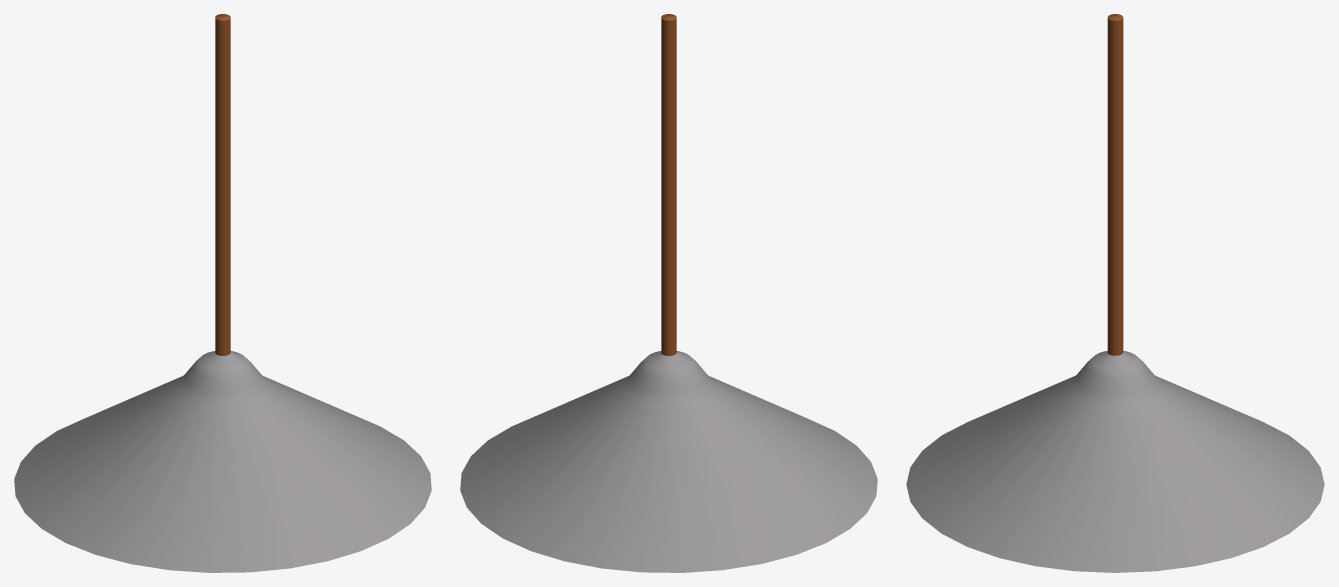
The model's file is Lamp.fbx.
The picture shows the model from 3 angles, left to right: view 1: azimuth 30°, elevation 25°; view 2: azimuth 150°, elevation 25°; view 3: azimuth 270°, elevation 25°; orthographic projection.
Parts seen in each view (by area): view 1: Cylinder, Cylinder.001; view 2: Cylinder, Cylinder.001; view 3: Cylinder, Cylinder.001.
Part boxes in pixels (left/top/right/bottom): Cylinder: left=14, top=351, right=431, bottom=572; Cylinder.001: left=215, top=14, right=230, bottom=355; Cylinder: left=460, top=351, right=877, bottom=572; Cylinder.001: left=661, top=14, right=676, bottom=355; Cylinder: left=906, top=351, right=1324, bottom=572; Cylinder.001: left=1107, top=14, right=1123, bottom=355.
Bounding box in the file's own units: 89.07 × 111 × 89.07.
